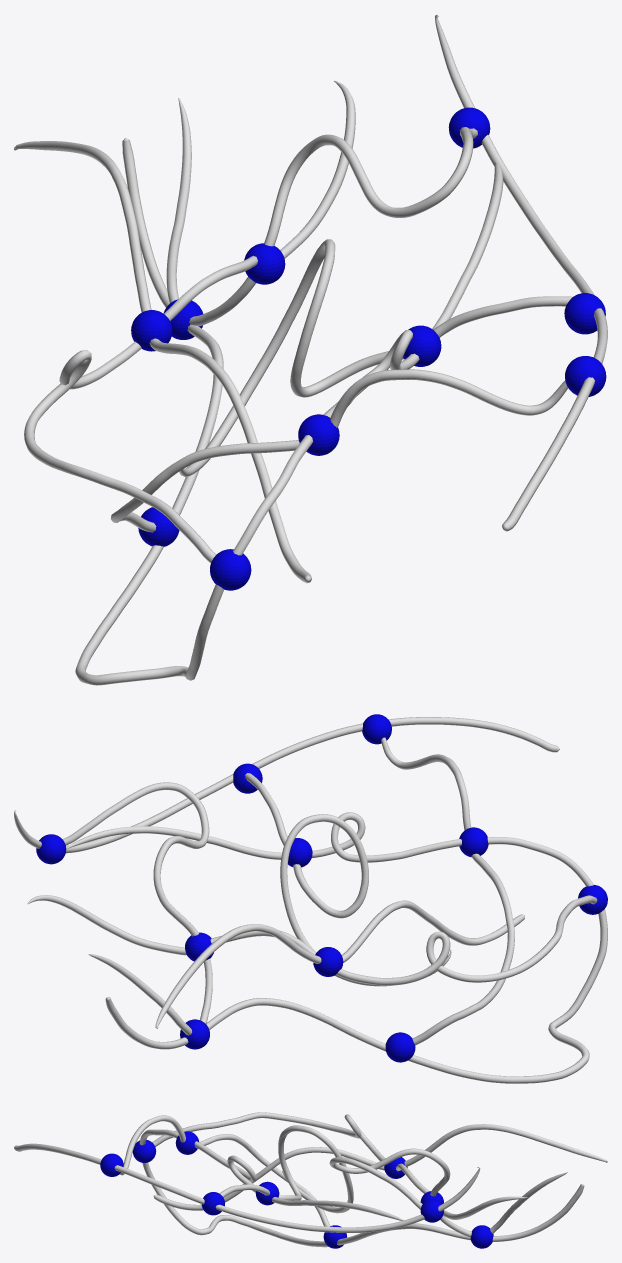
The model's file is Elastomer_Nudel.glb.
The picture shows the model from 3 angles, top to bottom: view 1: azimuth 30°, elevation 25°; view 2: azimuth 150°, elevation 25°; view 3: azimuth 270°, elevation 25°; orthographic projection. The views are drawn at different scales.
Visible parts, largest first — view 1: brush_Wire_g0_b0, Sphere.006, Sphere.008, Sphere.009, Sphere.001, Sphere.003, Sphere.004, Sphere.002, Sphere.005, Sphere.007; view 2: brush_Wire_g0_b0, Sphere.007, Sphere.004, Sphere.002, Sphere.008, Sphere.009, Sphere, Sphere.003, Sphere.006, Sphere.005, Sphere.001; view 3: brush_Wire_g0_b0, Sphere, Sphere.002, Sphere.006, Sphere.004, Sphere.003, Sphere.008, Sphere.005, Sphere.007, Sphere.009.
Boxes of the visible parts, <box> form: brush_Wire_g0_b0: <box>14,14,607,685</box>; Sphere.006: <box>210,549,251,590</box>; Sphere.008: <box>298,414,339,455</box>; Sphere.009: <box>131,310,172,351</box>; Sphere.001: <box>244,243,285,284</box>; Sphere.003: <box>564,293,605,334</box>; Sphere.004: <box>565,356,606,396</box>; Sphere.002: <box>448,107,490,148</box>; Sphere.005: <box>403,325,441,366</box>; Sphere.007: <box>138,507,179,546</box>; brush_Wire_g0_b0: <box>14,717,607,1083</box>; Sphere.007: <box>385,1032,415,1062</box>; Sphere.004: <box>362,714,391,744</box>; Sphere.002: <box>36,834,66,864</box>; Sphere.008: <box>459,827,488,857</box>; Sphere.009: <box>313,947,343,976</box>; Sphere: <box>180,1019,209,1049</box>; Sphere.003: <box>233,763,262,793</box>; Sphere.006: <box>578,885,607,914</box>; Sphere.005: <box>288,838,312,867</box>; Sphere.001: <box>185,932,213,961</box>; brush_Wire_g0_b0: <box>14,1112,607,1247</box>; Sphere: <box>470,1225,493,1248</box>; Sphere.002: <box>420,1199,443,1222</box>; Sphere.006: <box>132,1140,156,1162</box>; Sphere.004: <box>100,1153,123,1176</box>; Sphere.003: <box>201,1192,224,1215</box>; Sphere.008: <box>175,1131,198,1154</box>; Sphere.005: <box>255,1181,279,1205</box>; Sphere.007: <box>323,1225,346,1248</box>; Sphere.009: <box>384,1157,407,1178</box>.
Bounding box in the file's own units: 0.9835 × 0.6161 × 1.54.
